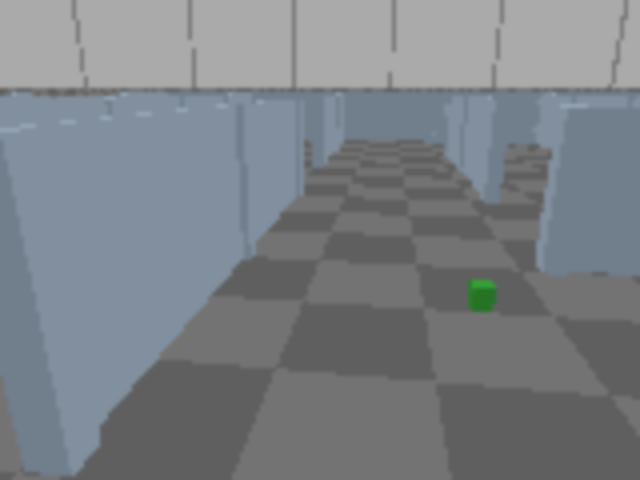puck: (467, 280, 496, 311)
